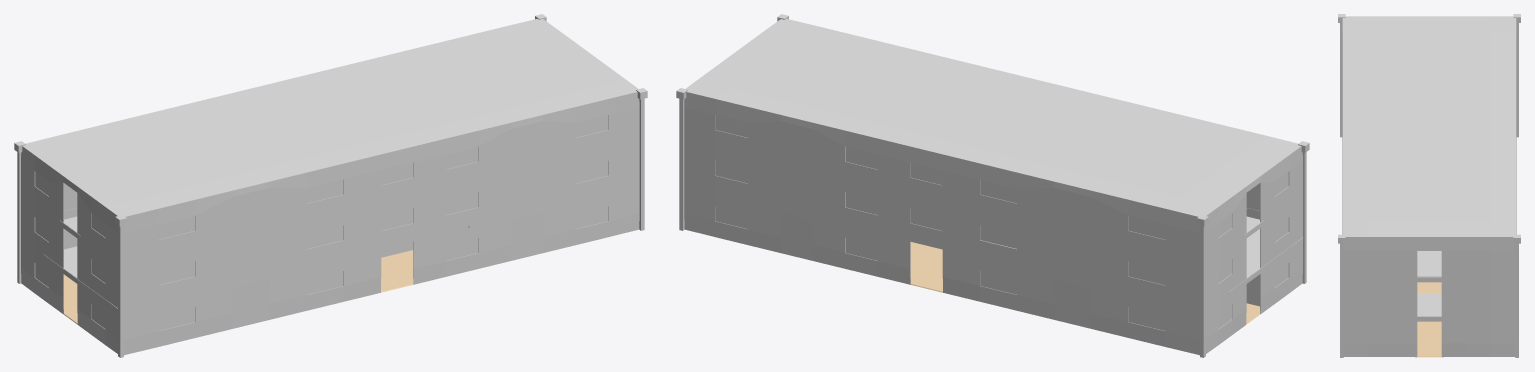
File: Mod Building Middle Long 01.fbx
3 renders of one model, left to right at view 1: azimuth 30°, elevation 25°; view 2: azimuth 150°, elevation 25°; view 3: azimuth 270°, elevation 25°, orthographic. The views are drawn at different scales.
Parts seen in each view (by area): view 1: Long School Building Main, Windows.002, Building Edge Long.001, Side Path; view 2: Long School Building Main, Windows.002, Building Edge Long.001, Side Path; view 3: Long School Building Main, Windows.002, Building Edge Long.001, Middle Bridge, Side Path.
Boxes of the visible parts, x1,y1,x2,y2 form: Long School Building Main: (21,19,639,355); Windows.002: (35,115,608,330); Building Edge Long.001: (14,14,647,357); Side Path: (43,246,117,309); Long School Building Main: (684,19,1302,355); Windows.002: (715,115,1288,330); Building Edge Long.001: (676,14,1309,357); Side Path: (1227,229,1303,293); Long School Building Main: (1342,16,1516,357); Windows.002: (1368,251,1490,343); Building Edge Long.001: (1338,14,1520,357); Middle Bridge: (1417,251,1441,276); Side Path: (1417,293,1441,316).
Size of the model in its own units: 3039 by 766 by 1049.
